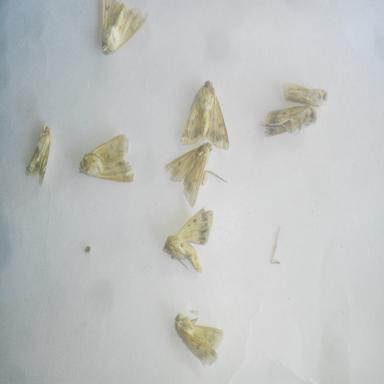abw: (160, 203, 218, 277), (178, 76, 232, 154), (159, 136, 215, 208), (76, 130, 137, 185), (173, 309, 227, 370), (97, 1, 152, 58), (257, 98, 320, 147), (276, 71, 331, 117), (22, 121, 54, 190)
